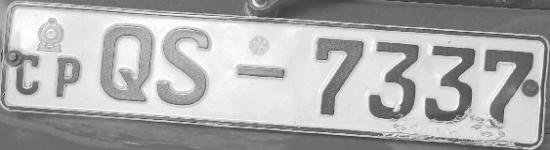-: (228, 57, 292, 85)
3: (420, 39, 480, 134), (367, 38, 421, 127)
7: (304, 32, 368, 118), (479, 41, 538, 132)
C: (14, 49, 44, 97)
P: (50, 54, 85, 102)
Q: (94, 18, 157, 108)
S: (156, 20, 217, 110)
